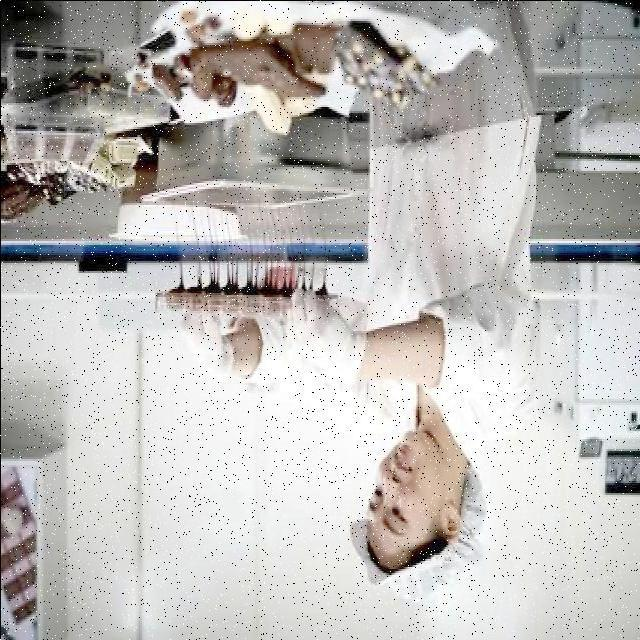apron: (270, 292, 366, 378), (168, 317, 238, 361)
